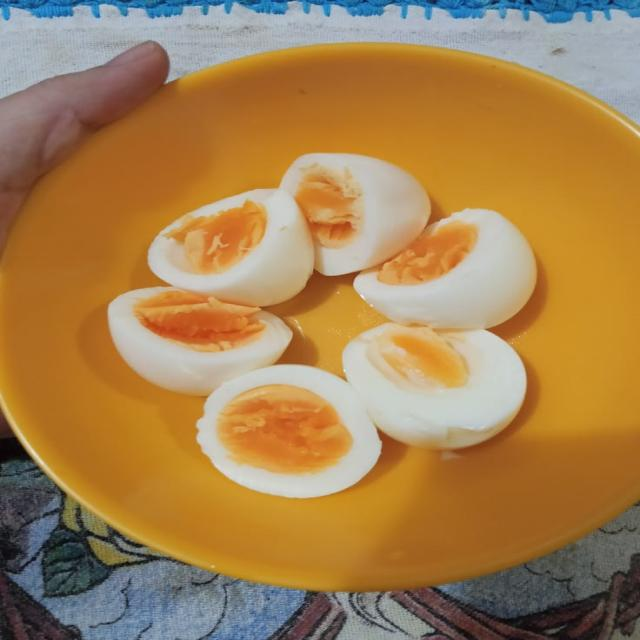egg boiled: (198, 365, 380, 497), (343, 323, 526, 449), (354, 209, 536, 328), (108, 288, 292, 396), (148, 190, 313, 306), (280, 154, 430, 275)
